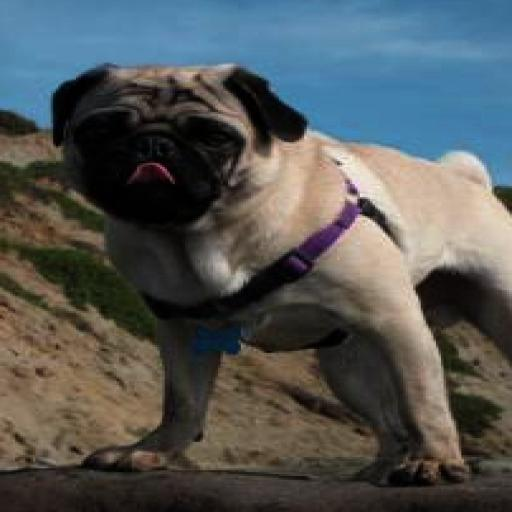dog_face: (41, 49, 304, 216)
